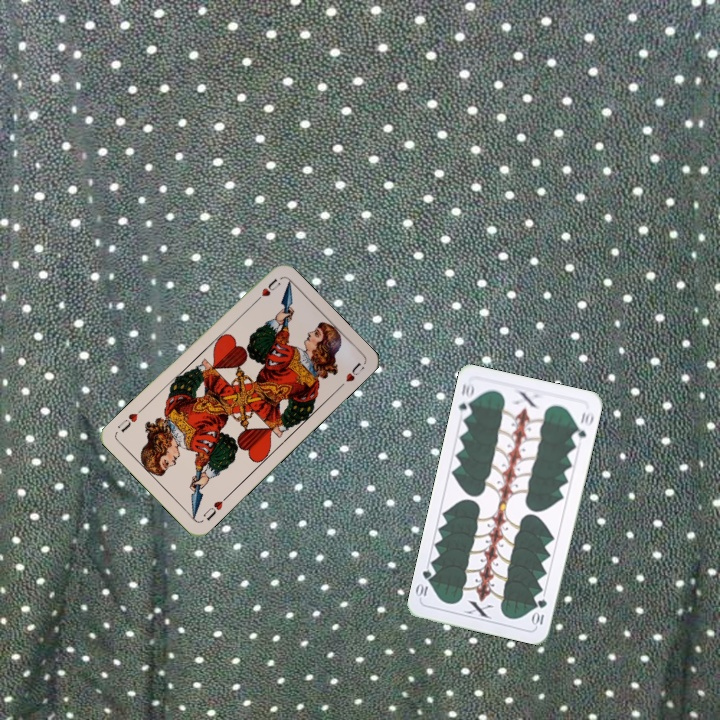G10: (454, 379, 477, 420), (529, 595, 550, 629)
HU: (249, 274, 283, 306), (199, 492, 230, 523)
